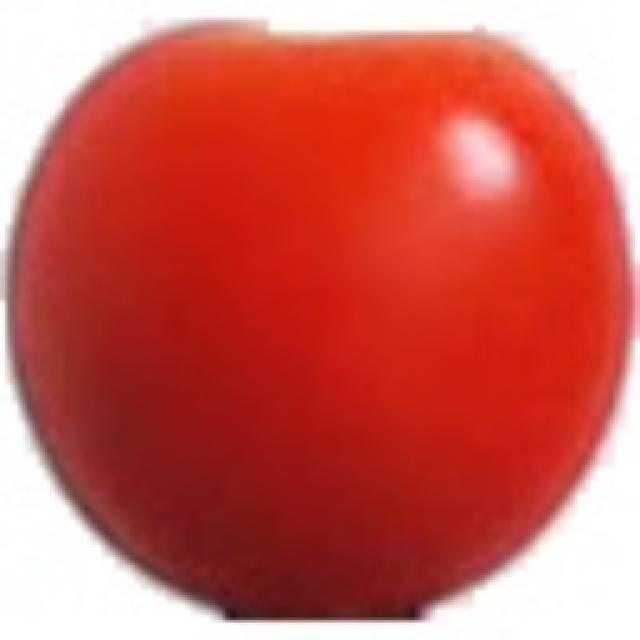tomato: (4, 21, 634, 624)
